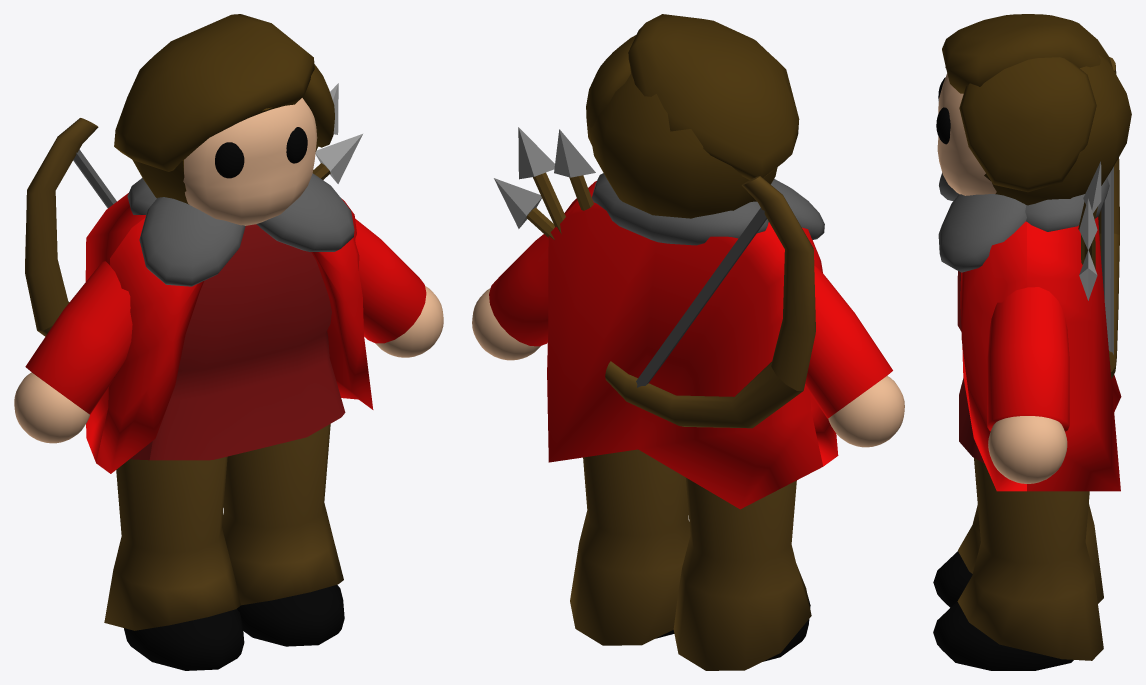
File: ranger.fbx
3 renders of one model, left to right at view 1: azimuth 30°, elevation 25°; view 2: azimuth 150°, elevation 25°; view 3: azimuth 270°, elevation 25°, orthographic. The views are drawn at different scales.
Visible parts, largest first — view 1: RLeg, pCube1, Coat, pSphere1, Fur, Head, LArm, pCylinder3, RArm, LFoot, RFoot, LHand (+5 smaller); view 2: Coat, RLeg, pSphere1, pCylinder3, pSphere3, LArm, Fur, RArm, LHand, pSphere2, RHand, Arrow (+2 smaller); view 3: Coat, RLeg, pSphere2, RArm, pSphere1, Fur, pSphere3, RHand, RFoot, pCylinder3, Head, LFoot (+5 smaller).
Boxes of the visible parts, left/top/right/bottom form: RLeg: left=104, top=424, right=343, bottom=630; pCube1: left=130, top=224, right=345, bottom=460; Coat: left=85, top=193, right=373, bottom=473; pSphere1: left=114, top=14, right=314, bottom=171; Fur: left=127, top=173, right=354, bottom=286; Head: left=183, top=98, right=317, bottom=225; LArm: left=25, top=261, right=132, bottom=414; pCylinder3: left=25, top=118, right=116, bottom=336; RArm: left=355, top=218, right=426, bottom=343; LFoot: left=124, top=609, right=244, bottom=670; RFoot: left=237, top=585, right=344, bottom=646; LHand: left=14, top=372, right=89, bottom=443; Coat: left=547, top=181, right=838, bottom=509; RLeg: left=570, top=449, right=811, bottom=670; pSphere1: left=628, top=14, right=799, bottom=179; pCylinder3: left=605, top=176, right=815, bottom=428; pSphere3: left=589, top=74, right=777, bottom=218; LArm: left=805, top=266, right=892, bottom=418; Fur: left=592, top=173, right=824, bottom=245; RArm: left=489, top=234, right=548, bottom=346; LHand: left=828, top=376, right=904, bottom=447; pSphere2: left=586, top=35, right=636, bottom=144; RHand: left=472, top=288, right=540, bottom=360; Arrow: left=518, top=127, right=565, bottom=234; Coat: left=960, top=217, right=1121, bottom=491; RLeg: left=957, top=458, right=1103, bottom=660; pSphere2: left=959, top=57, right=1096, bottom=192; RArm: left=987, top=287, right=1069, bottom=431; pSphere1: left=942, top=14, right=1112, bottom=93; Fur: left=938, top=172, right=1109, bottom=272; pSphere3: left=945, top=55, right=1131, bottom=205; RHand: left=988, top=416, right=1067, bottom=483; RFoot: left=933, top=601, right=1073, bottom=670; pCylinder3: left=1098, top=57, right=1119, bottom=378; Head: left=937, top=73, right=996, bottom=195; LFoot: left=933, top=551, right=972, bottom=607.
Size of the model in its own units: 5.75 by 7.82 by 2.31.
